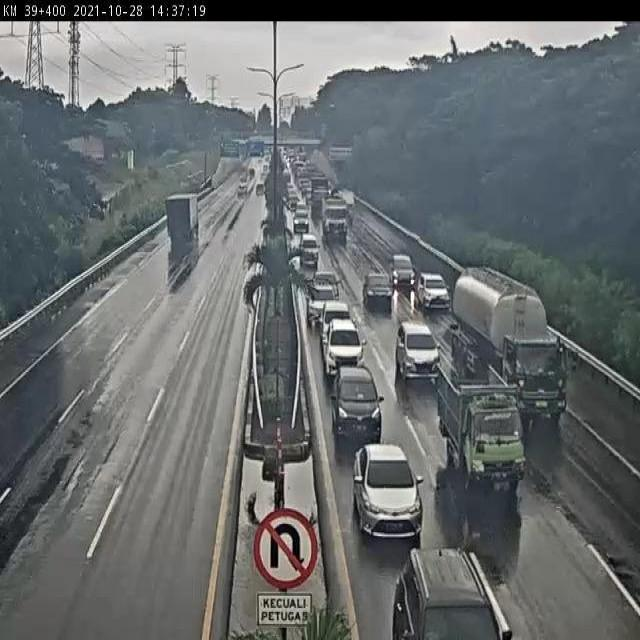big truck: (453, 269, 571, 431), (165, 194, 201, 242), (323, 198, 347, 238)
car: (394, 548, 501, 640), (349, 440, 426, 541), (331, 364, 383, 440), (393, 319, 443, 384), (322, 320, 368, 376), (318, 298, 350, 346), (416, 271, 451, 313), (360, 270, 395, 306), (307, 284, 336, 327), (389, 250, 418, 286), (311, 272, 342, 300), (300, 233, 320, 270), (292, 206, 313, 233)
small truck: (435, 358, 528, 498)
